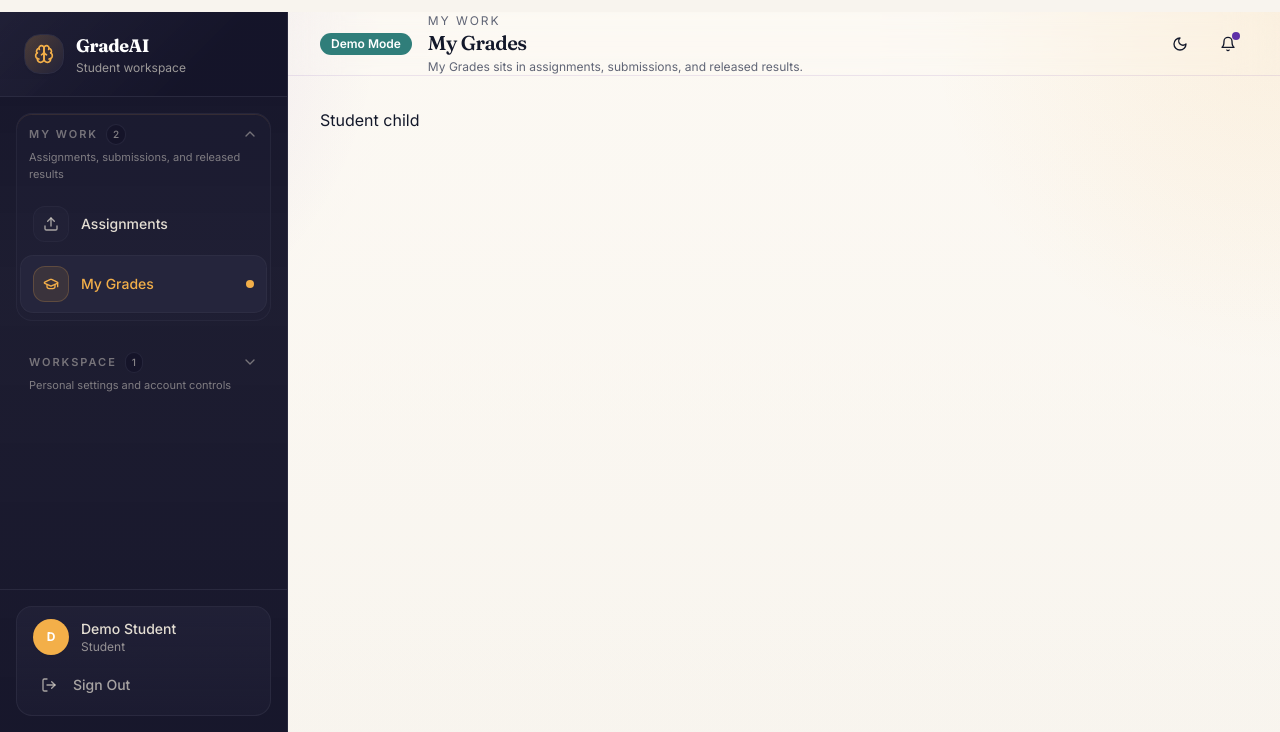
Test: DashboardLayout demo mode › shows student-focused notification preview hints in demo student mode
Check: the text "Student workspace" is shown, box [76,60,186,76]
Check: the 2nd text "My Work" is shown, box [29,126,98,143]
Click the button named "Open notifications" at (1228, 44), box [1208,24,1248,64]
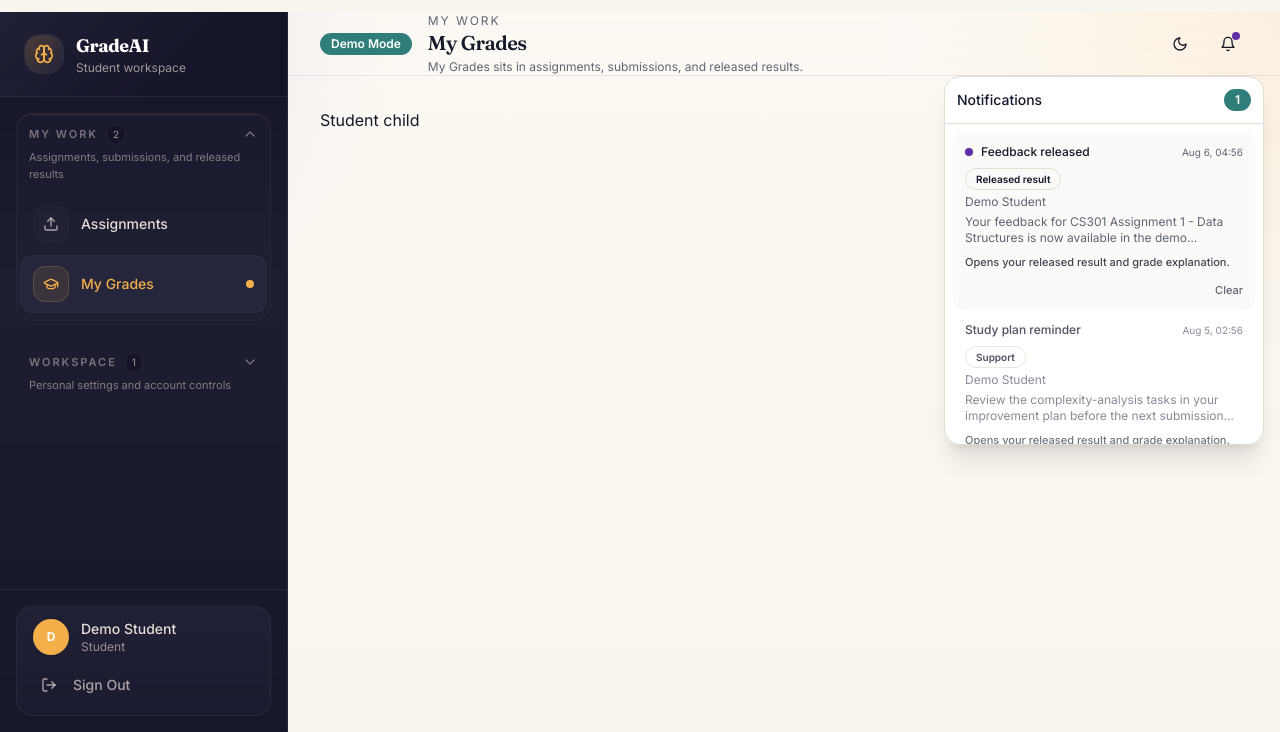
Check: the text "Released result" is shown, box [965,168,1061,190]
Check: the 1st text "Opens your released result and grade explanation." is shown, box [965,254,1243,270]
Check: the text "Support" is shown, box [965,346,1026,368]
